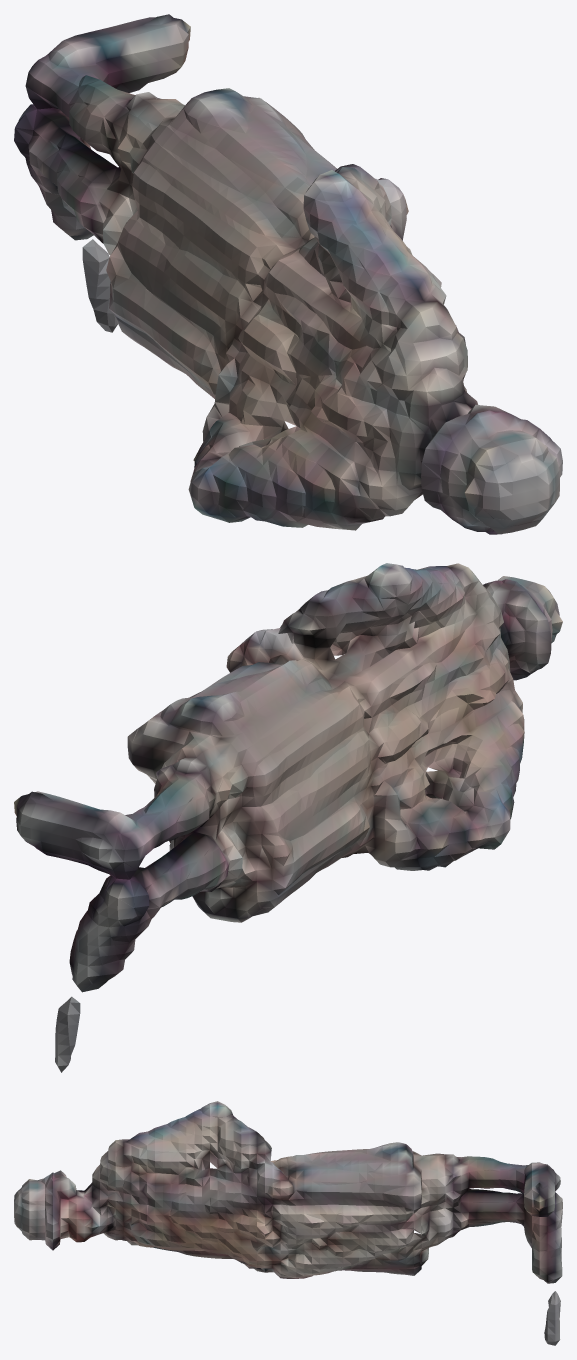
Rendered from industrial_commoner_m_0.glb.
3 renders of one model, top to bottom at view 1: azimuth 30°, elevation 25°; view 2: azimuth 150°, elevation 25°; view 3: azimuth 270°, elevation 25°, orthographic. The views are drawn at different scales.
Visible parts, largest first — view 1: world; view 2: world; view 3: world.
Part boxes in pixels (x1=…): world: x1=14, y1=14, x2=562, y2=534; world: x1=14, y1=563, x2=562, y2=1072; world: x1=14, y1=1101, x2=562, y2=1345.
Bounding box in the file's own units: 0.3244 × 0.4226 × 0.9581.
